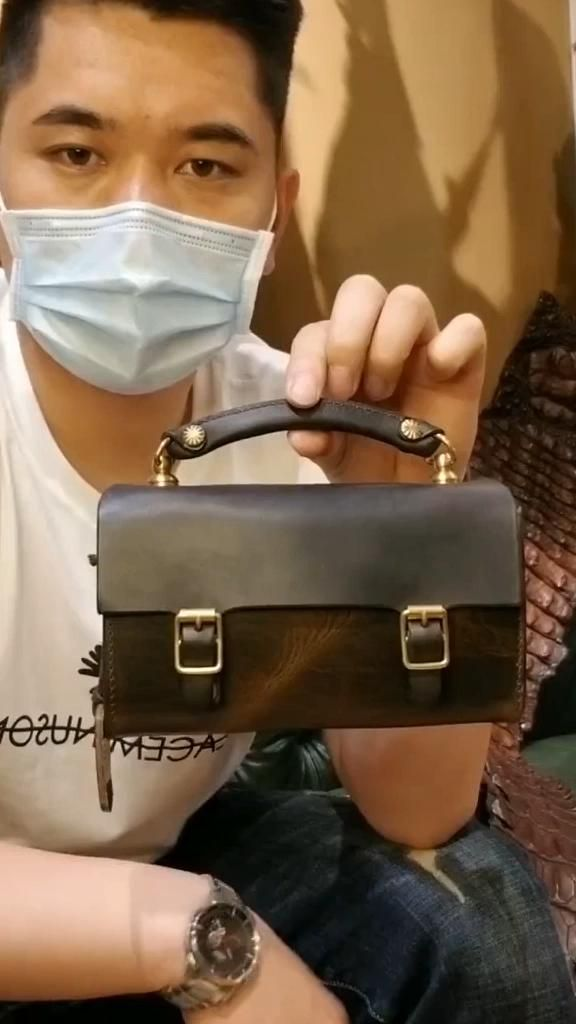cuero: (91, 398, 529, 738)
